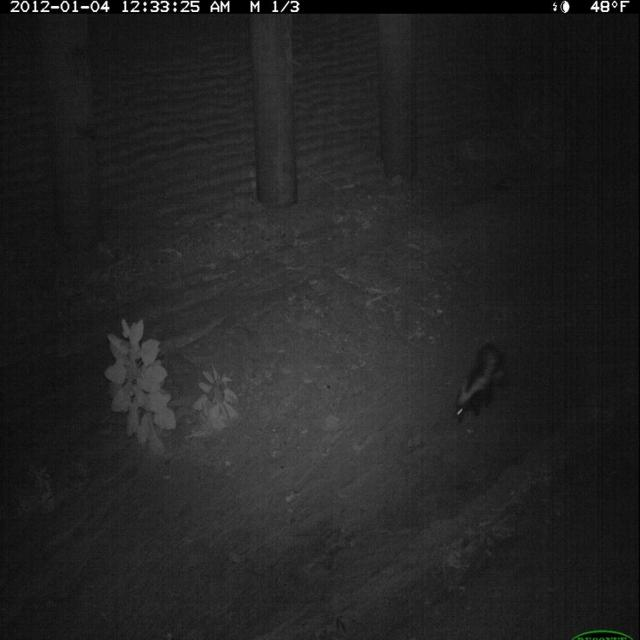skunk: (450, 337, 512, 430)
